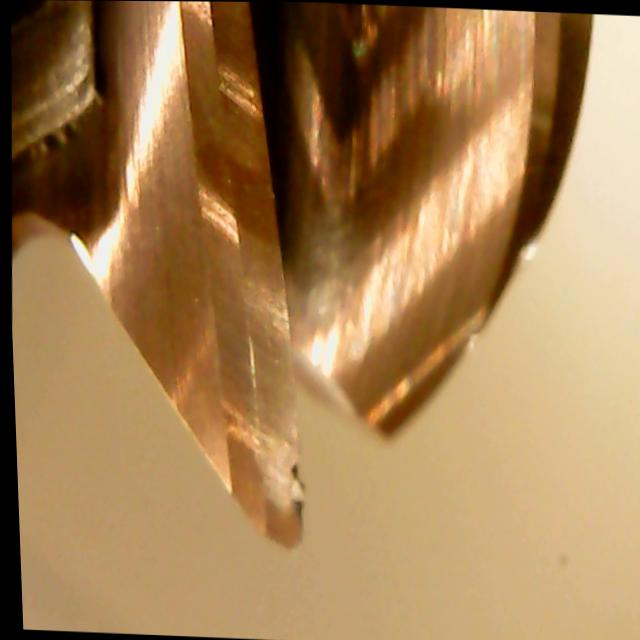Tool-wear-class-1: (181, 293, 328, 555)
